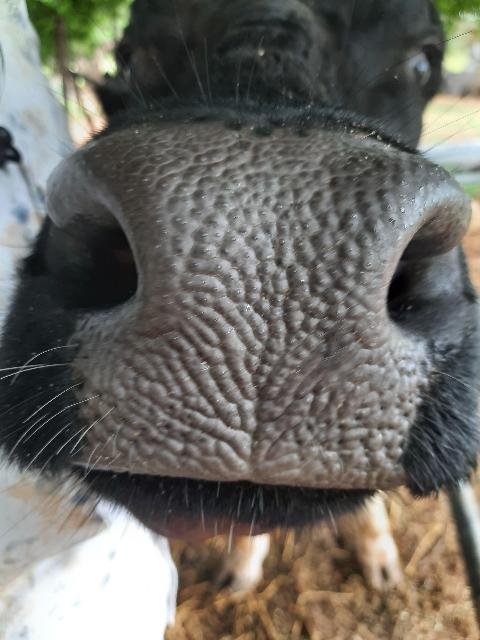Muzzle: (135, 144, 385, 466)
